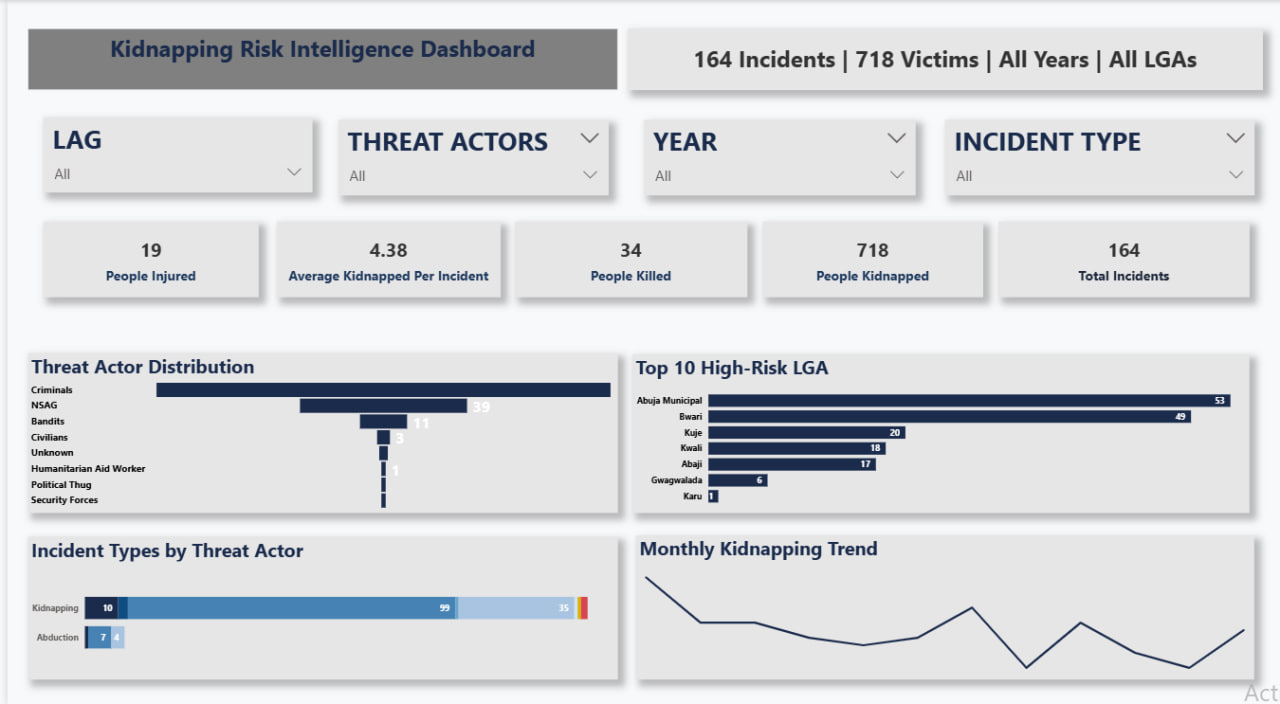

This screenshot's page, from the dashboard's own definition file:
{"tool":"powerbi","page":{"name":"Executive Overview","canvas":[1800,1000],"ordinal":0},"visuals":[{"type":"card","fields":{"Values":["kpi).Total Incidents"]},"box":[1400.8,313.3,355.2,107.2],"z":0},{"type":"textbox","box":[27.9,40.1,834.4,87.3],"z":1000},{"type":"card","fields":{"Values":["kpi).People Killed"]},"box":[717.2,313.3,328.4,107.2],"z":2000},{"type":"card","fields":{"Values":["kpi).People Kidnapped"]},"box":[1067.4,313.3,311.7,107.2],"z":3000},{"type":"card","fields":{"Values":["kpi).People Injured"]},"box":[50.3,313.3,305,107.2],"z":4000},{"type":"card","fields":{"Values":["kpi).Average Kidnapped Per Incident"]},"box":[380.4,313.3,316.7,107.2],"z":5000},{"type":"lineChart","title":"Monthly Kidnapping Trend","fields":{"Category":["monthly_trend.MONTH"],"Y":["Sum(monthly_trend.Incidents)"]},"box":[888.2,758.2,874.7,204.3],"z":6000},{"type":"clusteredBarChart","title":"Top 10 High-Risk LGA","fields":{"Category":["dim-LAG.LAG"],"Y":["kpi).Total Incidents"]},"box":[883.1,501.5,873,224.6],"z":7000},{"type":"barChart","title":"Incident Types by Threat Actor","fields":{"Category":["dim-SECURITY INCIDENT SUB-TYPE.SECURITY INCIDENT SUB-TYPE"],"Series":["dim-THREAT ACTORS.THREAT ACTORS"],"Y":["kpi).Total Incidents"]},"box":[28.7,759.8,834.1,202.6],"z":8000},{"type":"funnel","title":"Threat Actor Distribution","fields":{"Category":["dim-THREAT ACTORS.THREAT ACTORS"],"Y":["kpi).Total Incidents"]},"box":[28.7,499.8,834.1,226.3],"z":9000},{"type":"slicer","title":"LAG","fields":{"Values":["dim-LAG.LAG"]},"box":[50.6,165.8,380.5,106.5],"z":10000},{"type":"slicer","title":"LAG","fields":{"Values":["dim-THREAT ACTORS.THREAT ACTORS"]},"box":[467.5,169.2,382,107.2],"z":11000},{"type":"slicer","title":"LAG","fields":{"Values":["dim-SECURITY INCIDENT SUB-TYPE.SECURITY INCIDENT SUB-TYPE"]},"box":[1325.4,169.2,437.3,107.2],"z":12000},{"type":"slicer","title":"LAG","fields":{"Values":["dim-date.YEAR"]},"box":[899.8,169.2,383.7,107.2],"z":13000},{"type":"card","fields":{"Values":["kpi).Dashboard Summary"]},"box":[876.3,40.2,898.1,87.1],"z":14000}]}

Visuals, with their boxes in screenshot pixels (x1, y1, x2, y2), scaled from the page's 1800x1000 canvas onto the 1280x704 screenshot:
card - kpi).Total Incidents: locate(996, 221, 1249, 296)
textbox: locate(20, 28, 613, 90)
card - kpi).People Killed: locate(510, 221, 744, 296)
card - kpi).People Kidnapped: locate(759, 221, 981, 296)
card - kpi).People Injured: locate(36, 221, 253, 296)
card - kpi).Average Kidnapped Per Incident: locate(271, 221, 496, 296)
"Monthly Kidnapping Trend" lineChart: locate(632, 534, 1254, 678)
"Top 10 High-Risk LGA" clusteredBarChart: locate(628, 353, 1249, 511)
"Incident Types by Threat Actor" barChart: locate(20, 535, 614, 678)
"Threat Actor Distribution" funnel: locate(20, 352, 614, 511)
"LAG" slicer: locate(36, 117, 307, 192)
"LAG" slicer: locate(332, 119, 604, 195)
"LAG" slicer: locate(943, 119, 1253, 195)
"LAG" slicer: locate(640, 119, 913, 195)
card - kpi).Dashboard Summary: locate(623, 28, 1262, 90)
